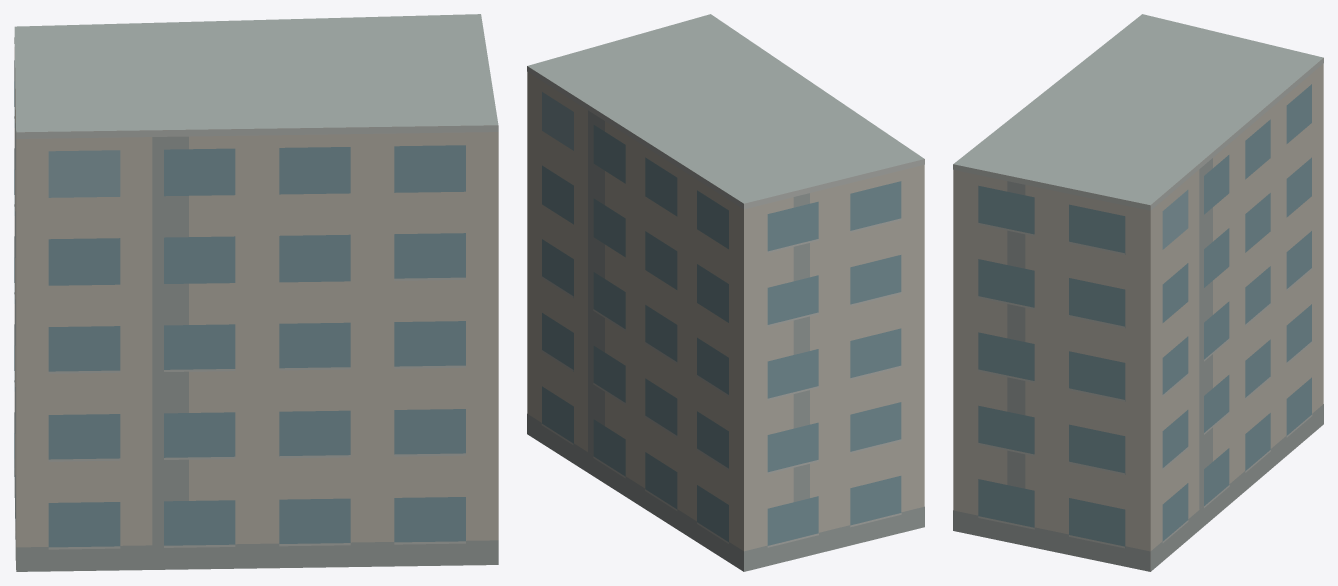
The model's file is survey-upis-32805921.glb.
The picture shows the model from 3 angles, left to right: view 1: azimuth 30°, elevation 25°; view 2: azimuth 150°, elevation 25°; view 3: azimuth 270°, elevation 25°; orthographic projection. The views are drawn at different scales.
Visible parts, largest first — view 1: survey-upis-32805921.tmp; view 2: survey-upis-32805921.tmp; view 3: survey-upis-32805921.tmp.
Boxes of the visible parts, x1,y1,x2,y2 form: survey-upis-32805921.tmp: (14,14,498,571); survey-upis-32805921.tmp: (527,14,924,571); survey-upis-32805921.tmp: (953,14,1323,571).
Size of the model in its own units: 17.74 by 15.85 by 14.53.
